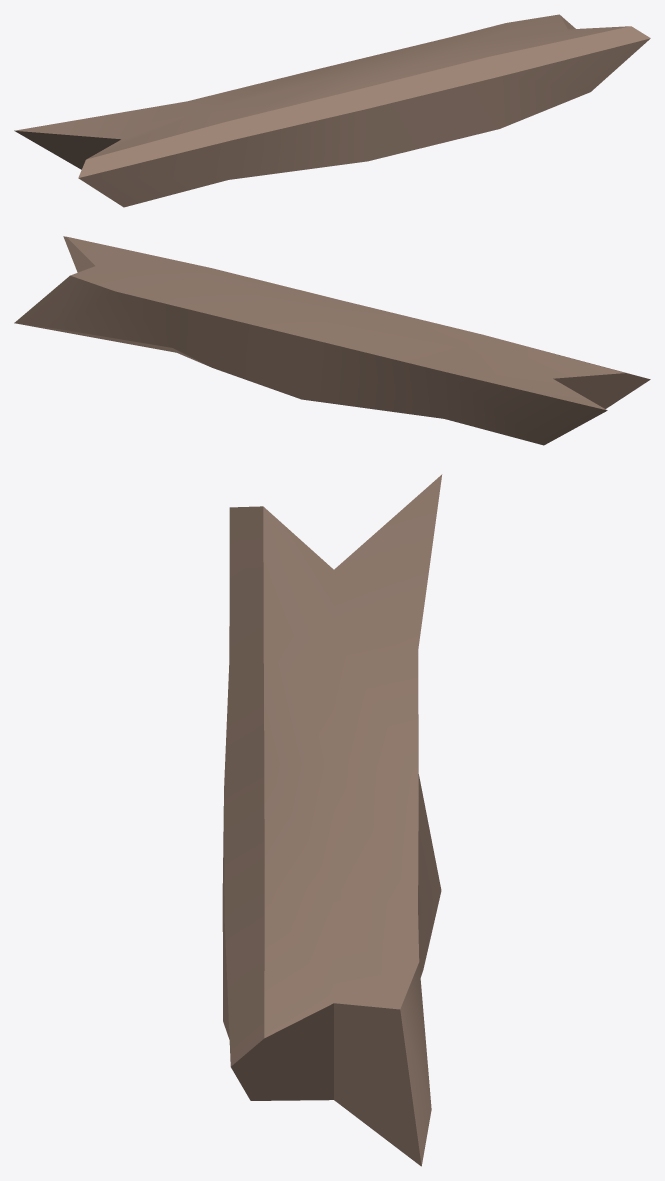
Rendered from SM_Blockout_Ruins_Timber_03.fbx.
3 views of the same model, one above another, from view 1: azimuth 30°, elevation 25°; view 2: azimuth 150°, elevation 25°; view 3: azimuth 270°, elevation 25° (orthographic). The views are drawn at different scales.
Parts seen in each view (by area): view 1: Cube.006; view 2: Cube.006; view 3: Cube.006.
Part boxes in pixels (box(x1,y1,x2,y2)): Cube.006: box(14, 14, 650, 207); Cube.006: box(14, 236, 650, 445); Cube.006: box(222, 474, 442, 1166).
Bounding box in the file's own units: 119 × 13.19 × 19.38.
